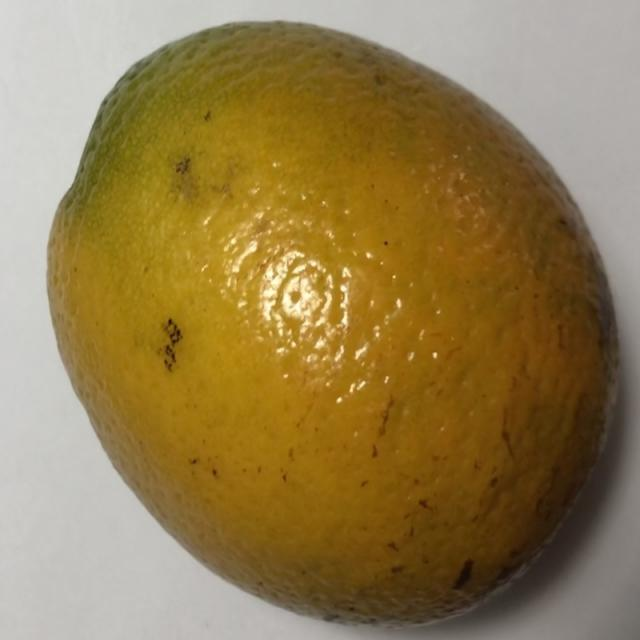blackspot: (34, 2, 624, 633)
